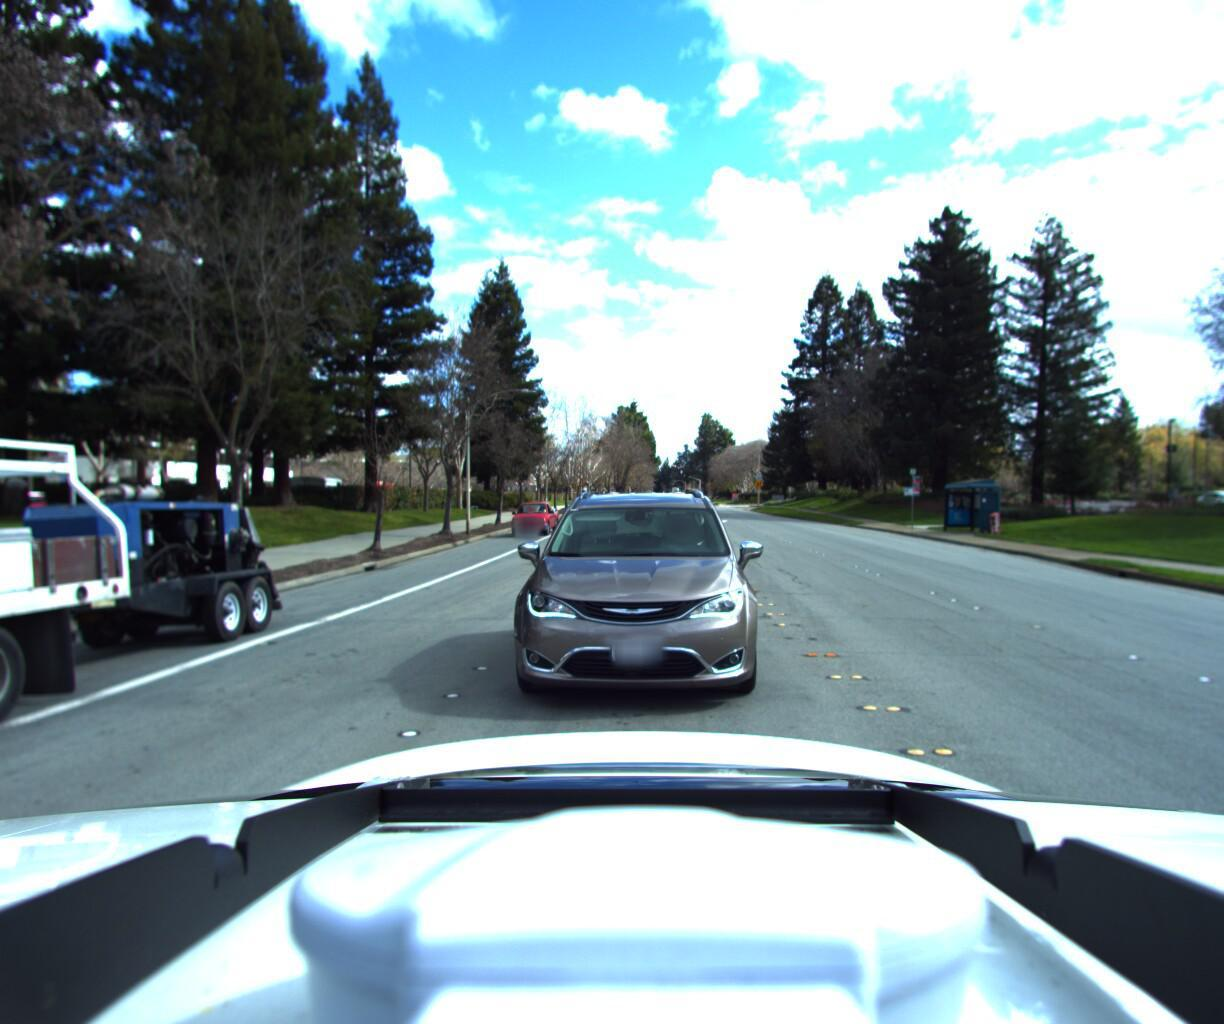car: (489, 467, 764, 720), (504, 510, 559, 545)
truck: (0, 97, 347, 1024)
